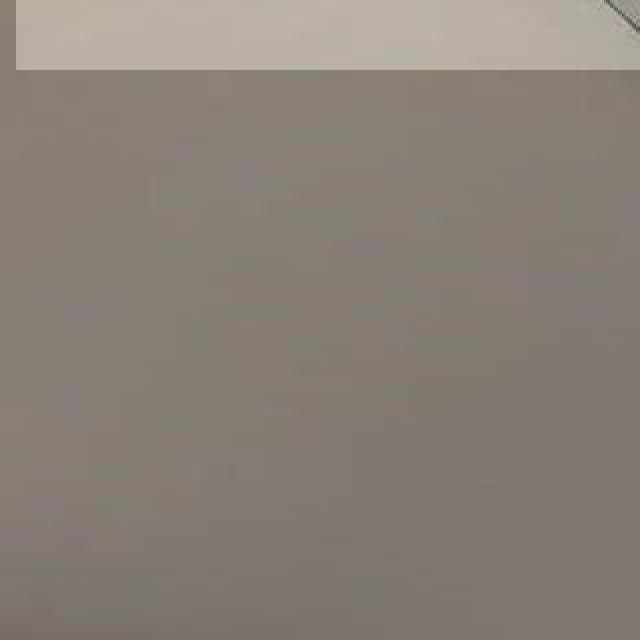fluorescent tube: (20, 0, 640, 64)
